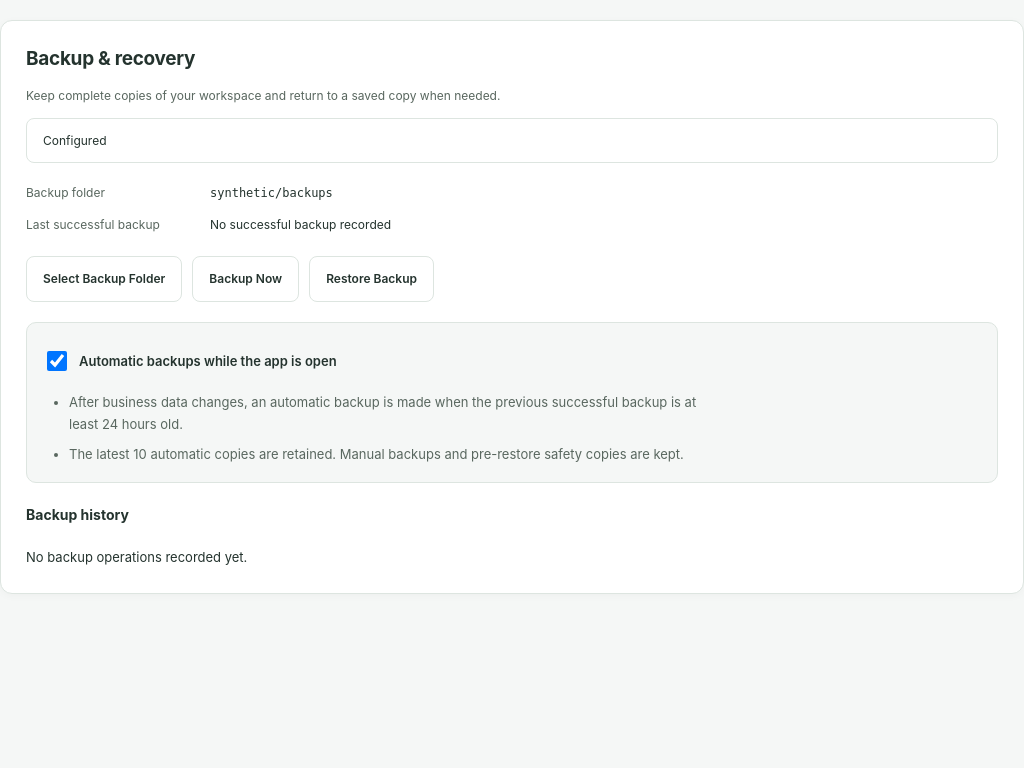
Test: requires deliberate confirmation and refreshes after successful restore
expect the text "synthetic/backups" is shown: met, box [210,186,333,200]
Click the button "Restore Backup": point(372, 279) [309,256,434,302]
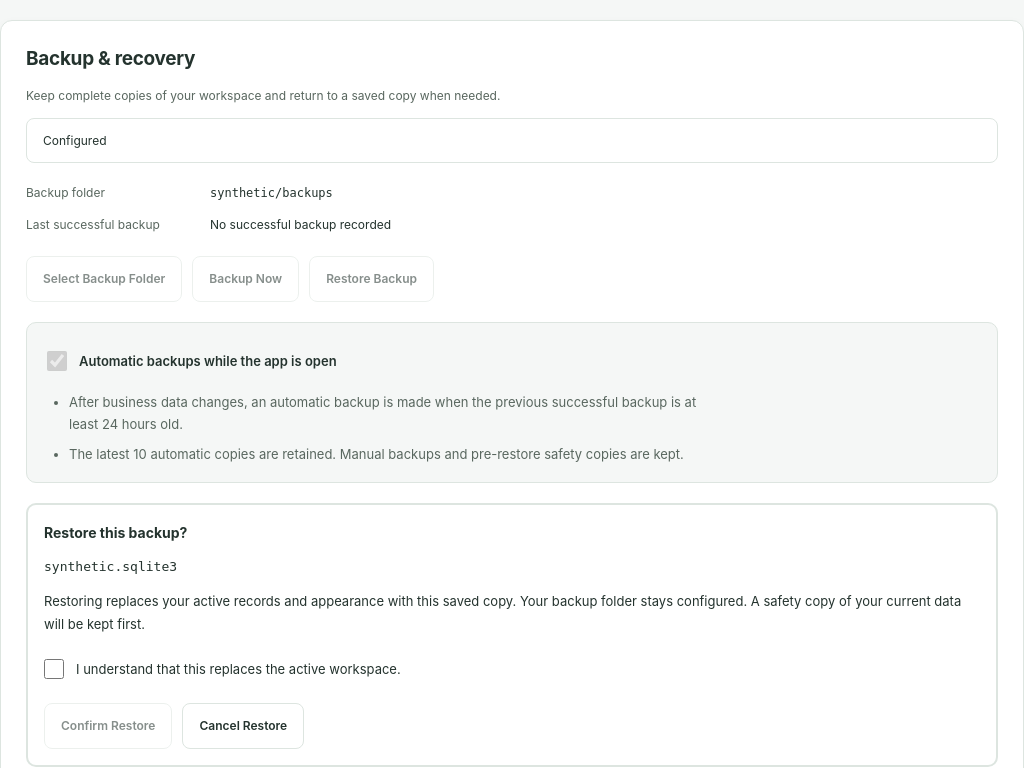
expect the button "Confirm Restore" is disabled: met, box [44,703,172,749]
Click the checkbox labelled "I understand that this replaces the active workspace.": point(54, 669) [44,659,64,679]
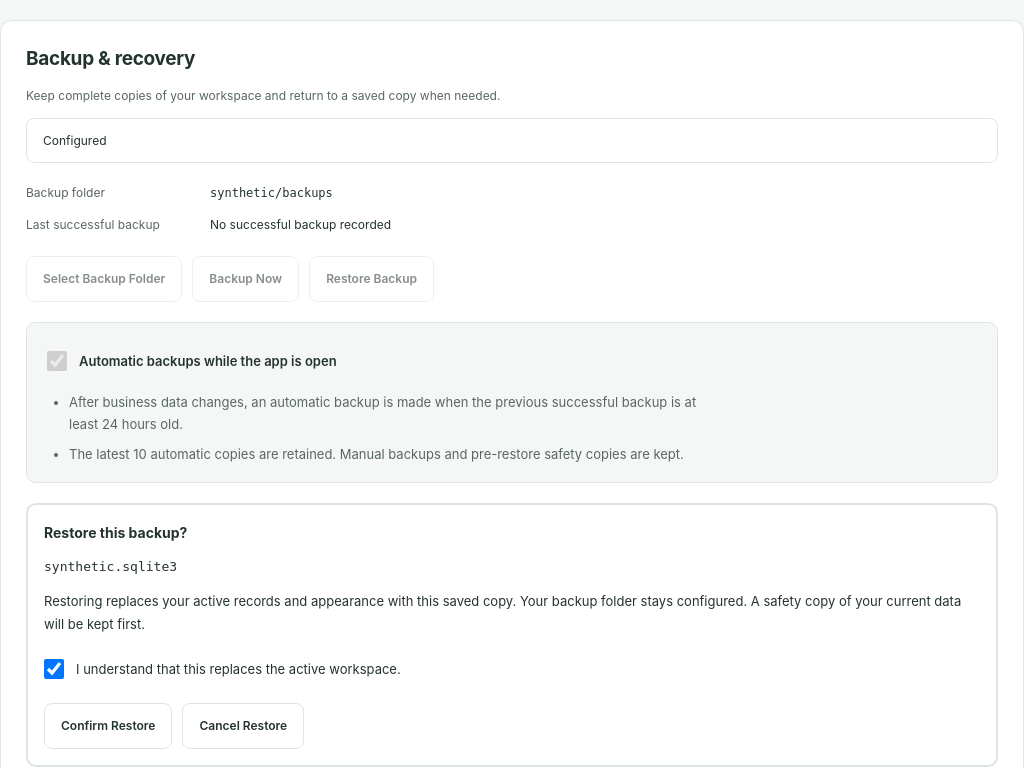
Click the button "Confirm Restore": point(108, 726) [44,703,172,749]
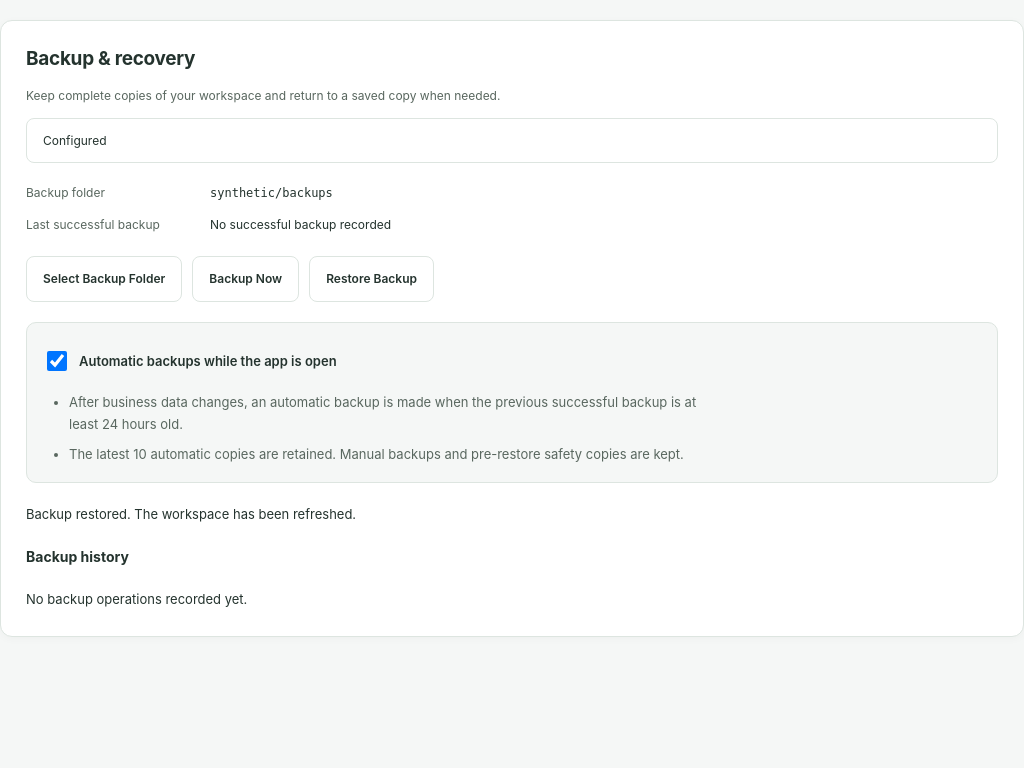
expect the text "Backup restored. The workspace has been refreshed." is shown: met, box [26,506,356,522]
